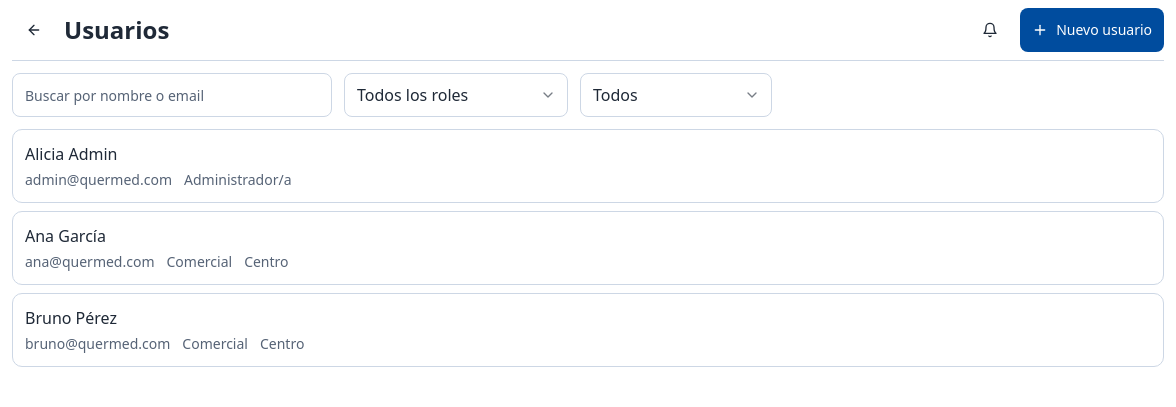
Scenario: UserListPage › opens the edit form when a user card is selected
Click the button "Ana García ana@quermed.com Comercial Centro". click: click(65, 236)
box: [12,211,1164,285]
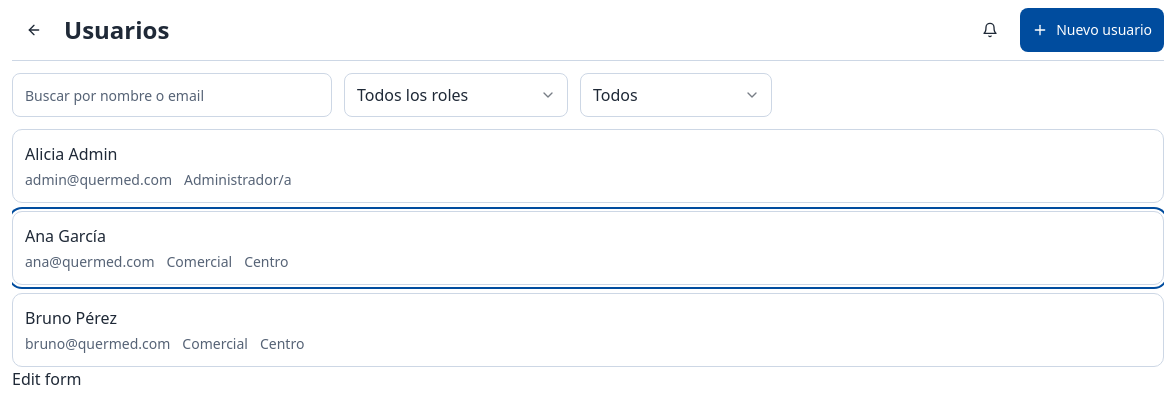
Now the text "Edit form" is shown, box [12,368,82,390]
